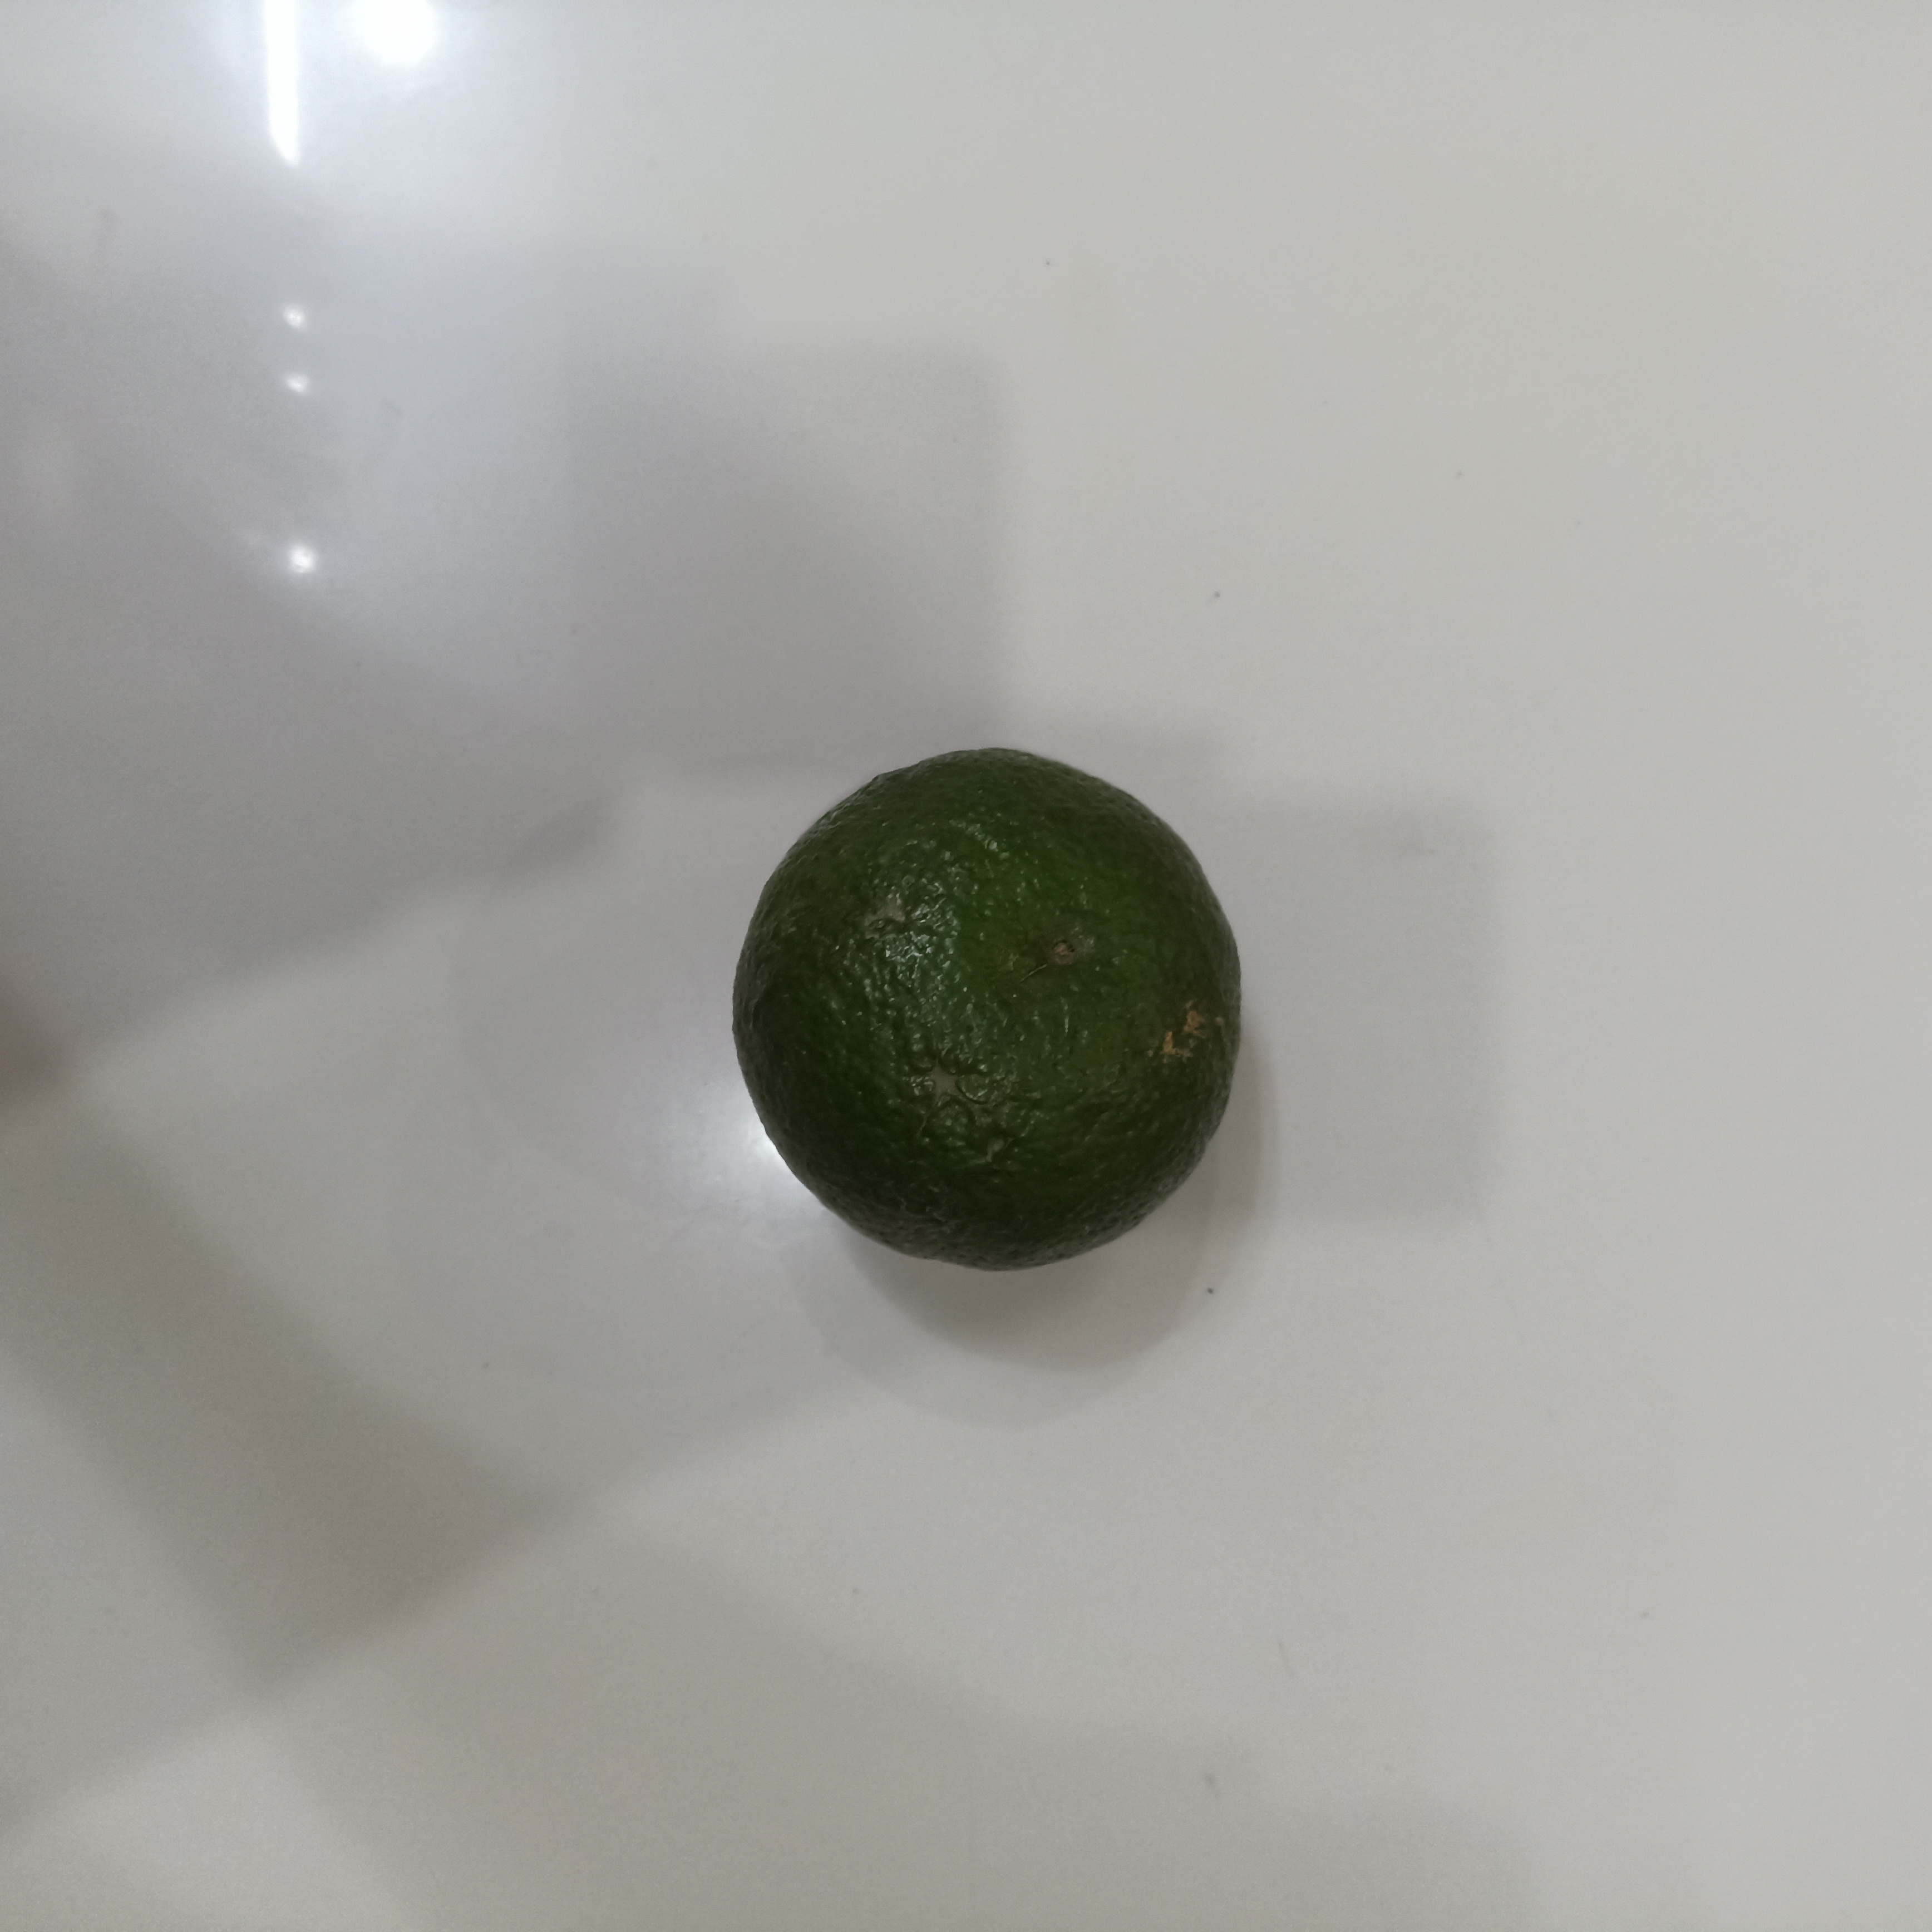Cam: (724, 747, 1235, 1270)
